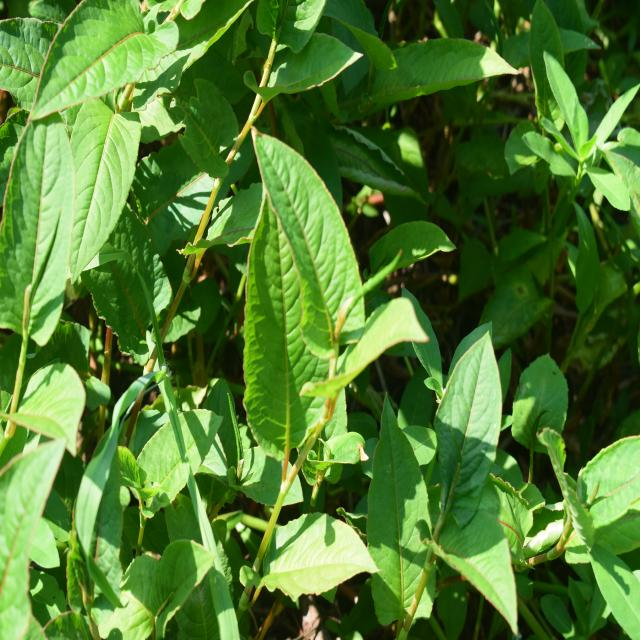Chinese_knotweed: (231, 162, 416, 442)
